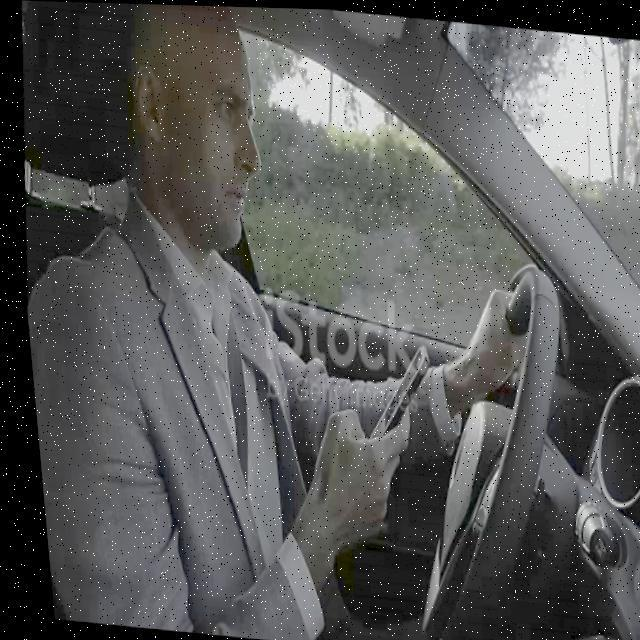PhoneCall: (340, 335, 430, 468)
